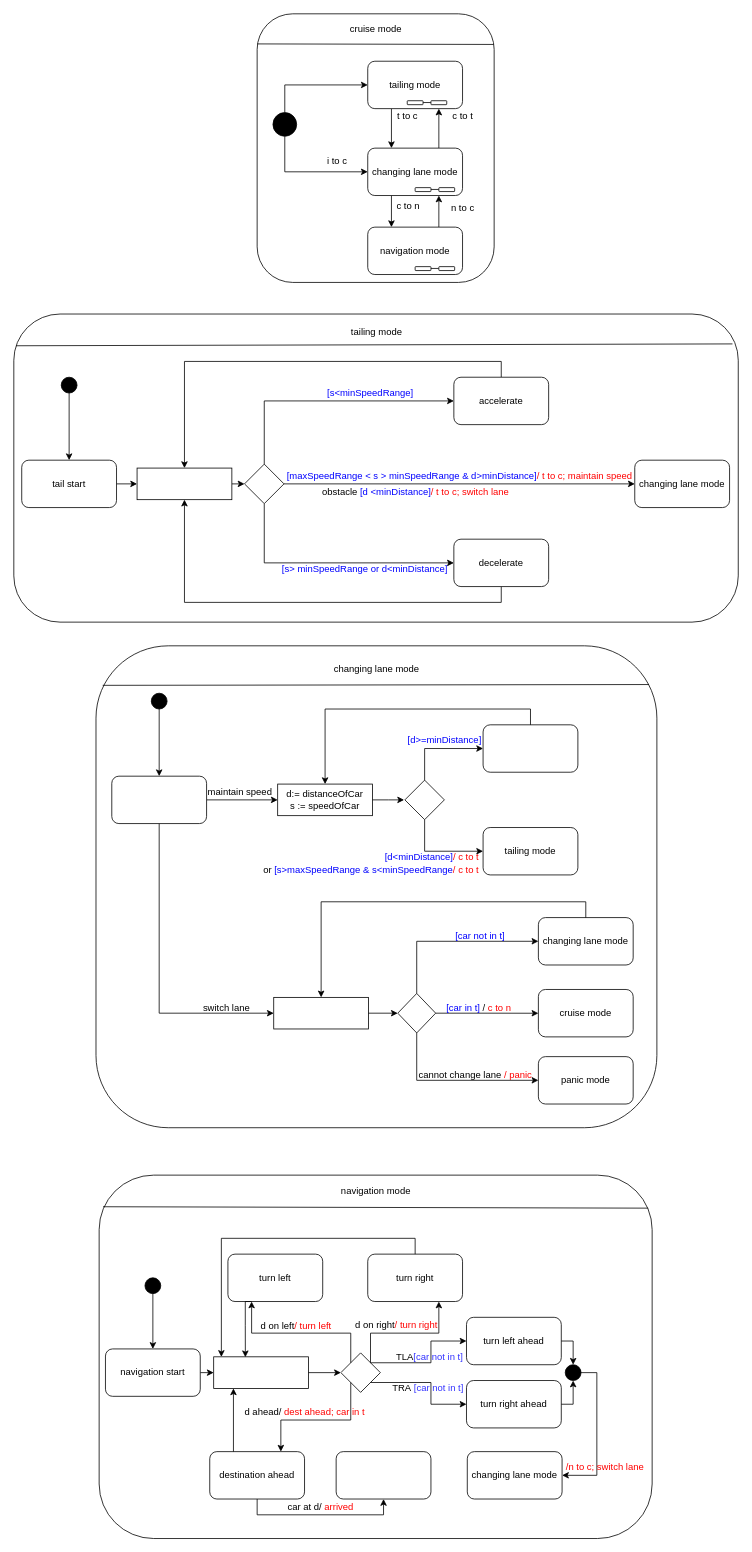
The diagram is 752 pixels wide and 1552 high, and some of its shapes have lost their labels. Each missing label, with the centre of its shape:
arrived destination: [383,1475]
lane start: [159,799]
maintain car speed: [530,748]
s := speedOfCar d:= distanceOfCar: [184,483]
t:= targetLane: [321,1013]
t:= targetLane d:=destination: [260,1372]
